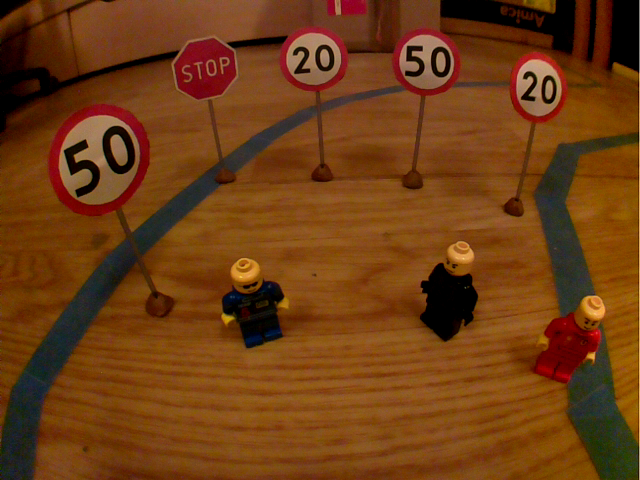Ograniczenie 20: (276, 22, 352, 95), (505, 47, 571, 129)
Ograniczenie 50: (44, 99, 155, 222), (388, 25, 464, 100)
Postac LEGO: (215, 251, 296, 358), (411, 234, 485, 349), (527, 287, 609, 390)
Stop: (167, 31, 243, 105)
